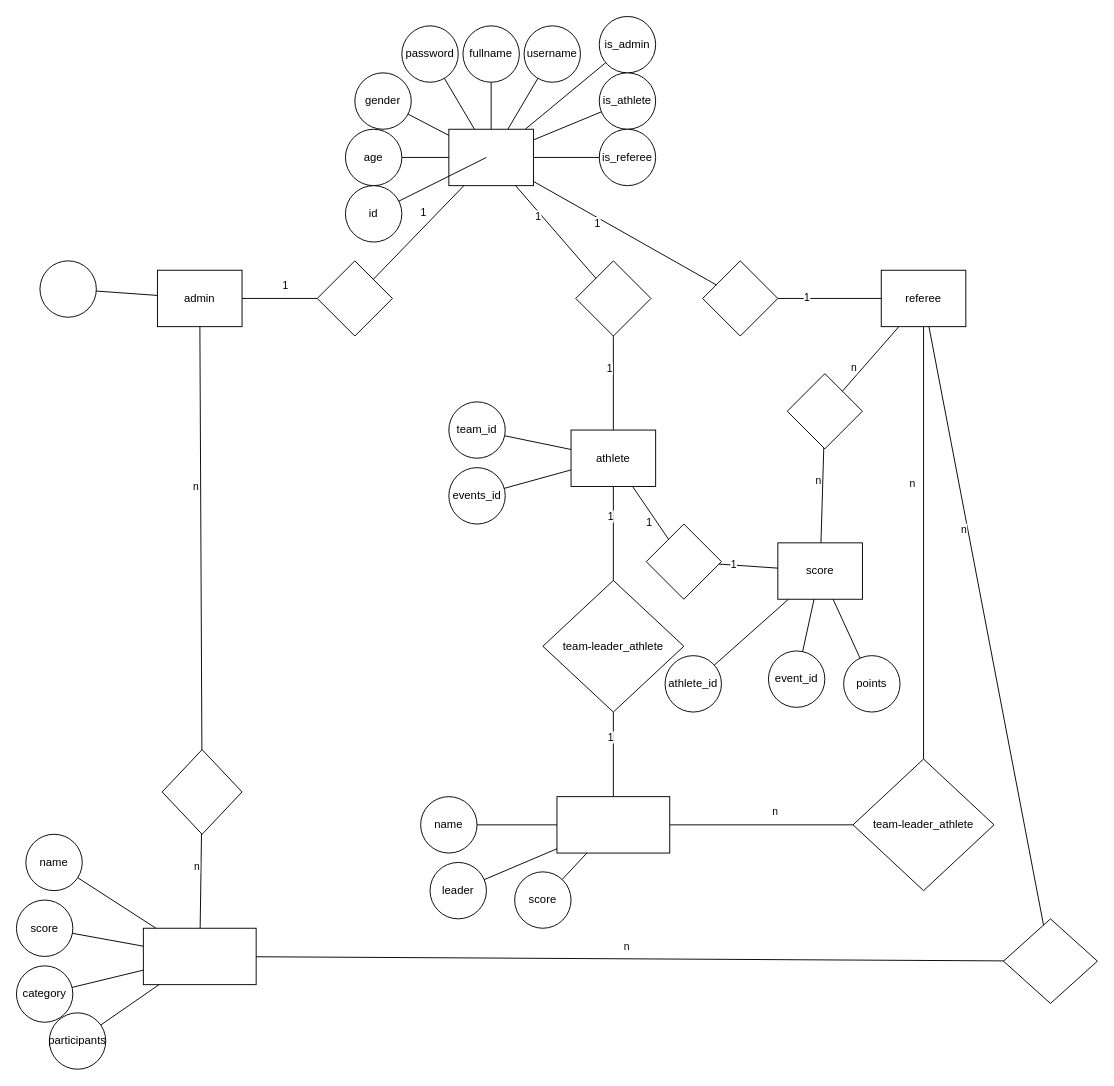
The diagram is 1114 pixels wide and 1086 high, and some of its shapes have lost their labels. Each missing label, with the centre of its shape:
"admin-events" belongs at point 201,791.
"athlete-score" belongs at point 683,561.
"events" belongs at point 199,956.
"manage" belongs at point 824,411.
"referee-events" belongs at point 1050,960.
"team" belongs at point 613,824.
"user" belongs at point 490,157.
"user-admin" belongs at point 354,298.
"user-athlete" belongs at point 613,298.
"user-referee" belongs at point 740,298.
"user_id" belongs at point 67,288.
